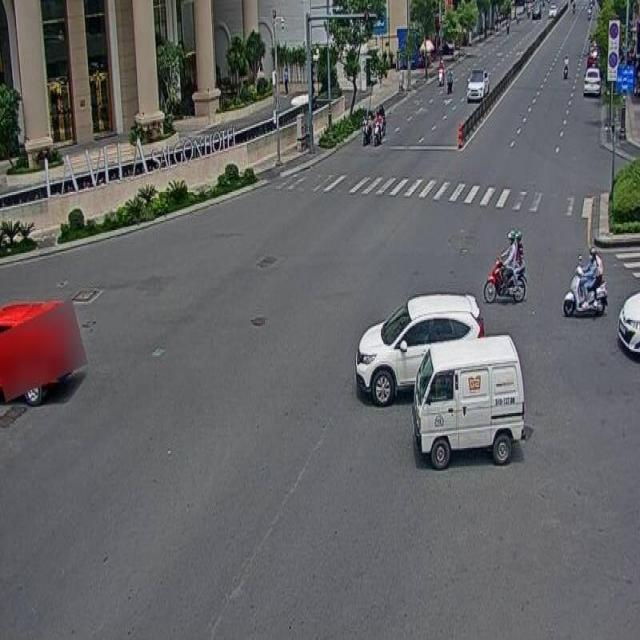car: (353, 291, 482, 411), (0, 297, 82, 405)
motorcycle: (484, 224, 526, 305), (562, 245, 604, 317)
truck: (411, 331, 526, 472)
